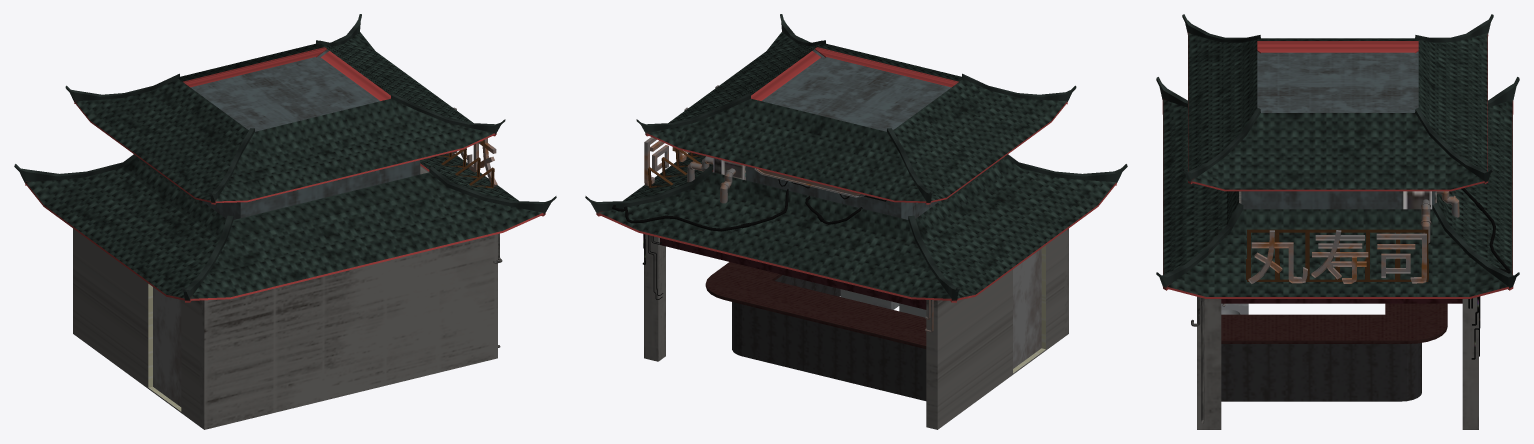
File: BarText.fbx
3 views of the same model, side by side, from view 1: azimuth 30°, elevation 25°; view 2: azimuth 150°, elevation 25°; view 3: azimuth 270°, elevation 25° (orthographic). The views are drawn at different scales.
Parts seen in each view (by area): view 1: Parede.001; view 2: Parede.001; view 3: Parede.001.
Part boxes in pixels (box(x1,y1,x2,y2)): Parede.001: box(14, 14, 556, 429); Parede.001: box(585, 14, 1127, 429); Parede.001: box(1156, 14, 1519, 429).
Bounding box in the file's own units: 3241 × 2162 × 2534.
Materials: 1 (1 with a texture image).
